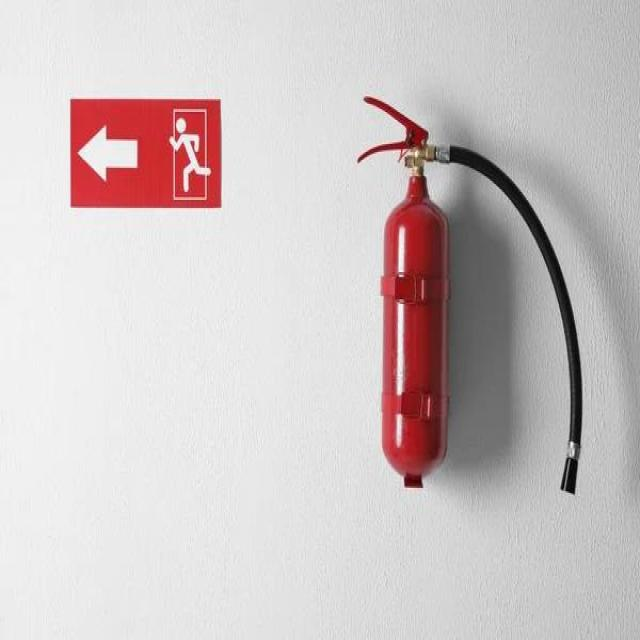fire_extinguisher: (351, 89, 586, 503)
